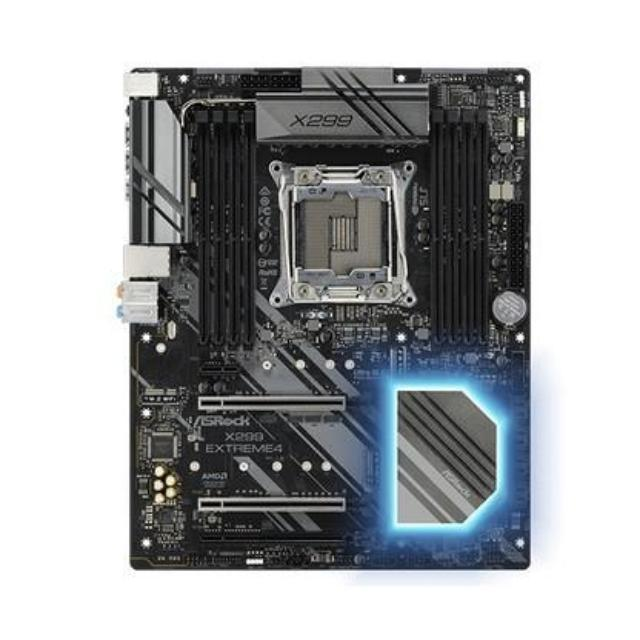Mainboard: (113, 49, 542, 582)
